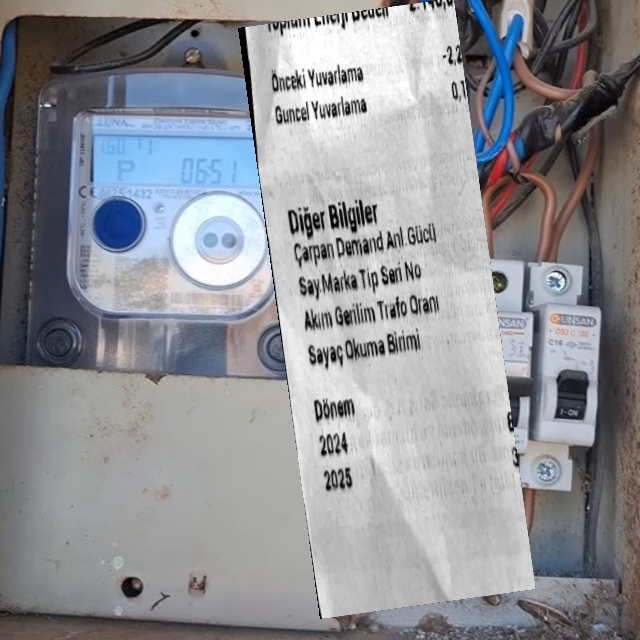electricity-bill: (237, 0, 535, 618)
